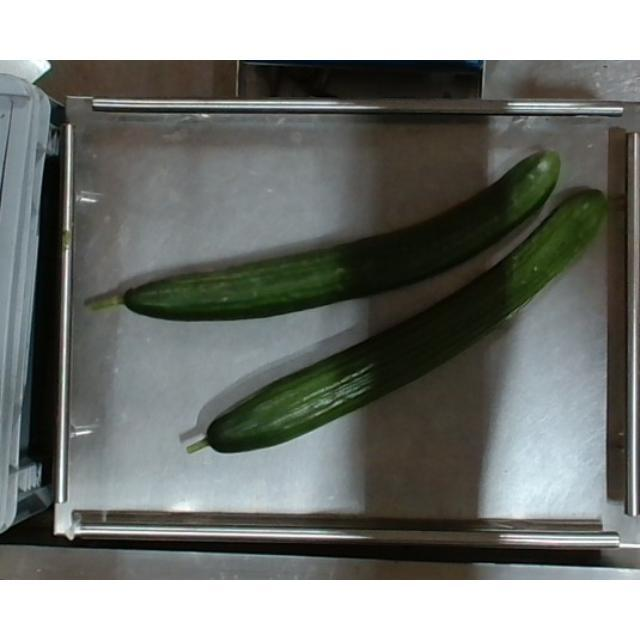cucumber: (183, 193, 609, 457), (86, 146, 560, 324)
